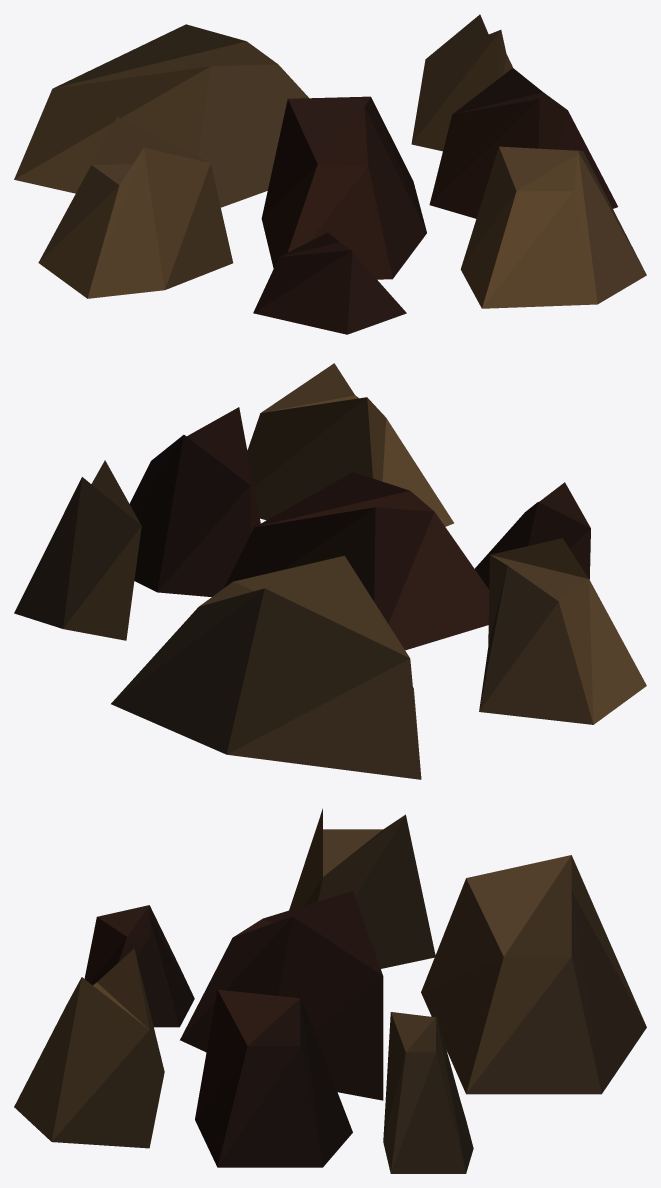
The model's file is bronze-ore.obj.
3 views of the same model, one above another, from view 1: azimuth 30°, elevation 25°; view 2: azimuth 150°, elevation 25°; view 3: azimuth 270°, elevation 25° (orthographic). The views are drawn at different scales.
Visible parts, largest first — view 1: Item Iron ore 2026-09-12_21-09-00; view 2: Item Iron ore 2026-09-12_21-09-00; view 3: Item Iron ore 2026-09-12_21-09-00.
Boxes of the visible parts, left/top/right/bottom form: Item Iron ore 2026-09-12_21-09-00: left=14, top=14, right=646, bottom=334; Item Iron ore 2026-09-12_21-09-00: left=14, top=363, right=646, bottom=779; Item Iron ore 2026-09-12_21-09-00: left=14, top=808, right=646, bottom=1173.
Size of the model in its own units: 83 by 20 by 84.
